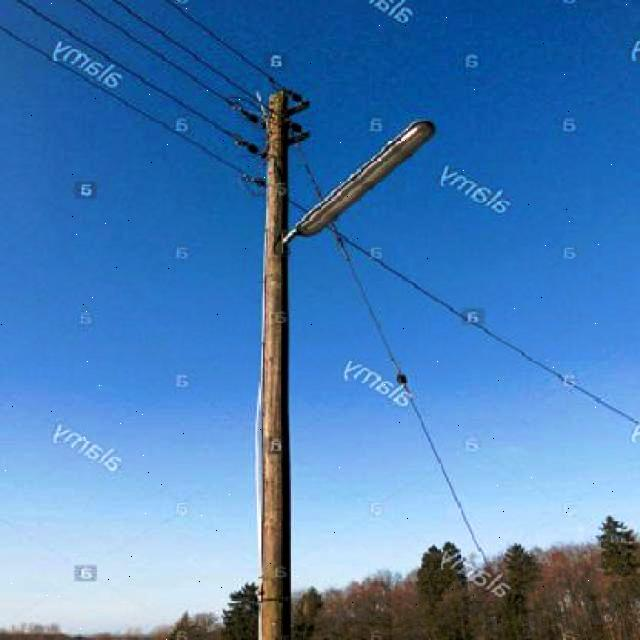poles: (258, 89, 302, 639)
wires: (5, 1, 302, 194)
